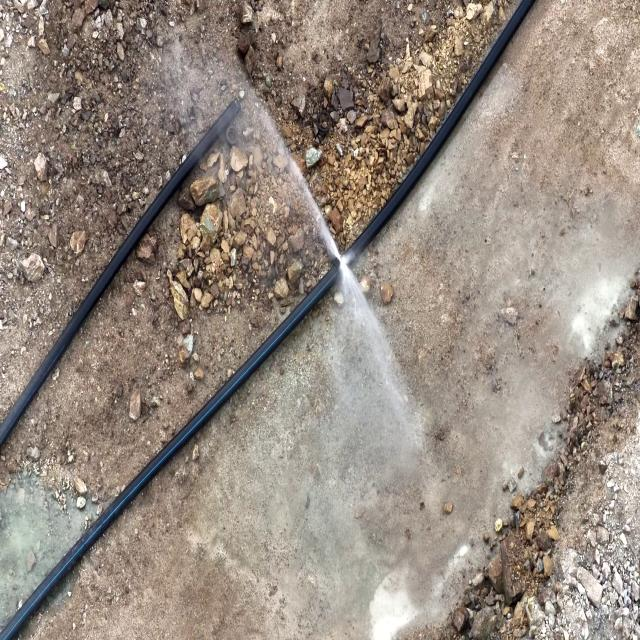leak: (251, 90, 402, 389)
